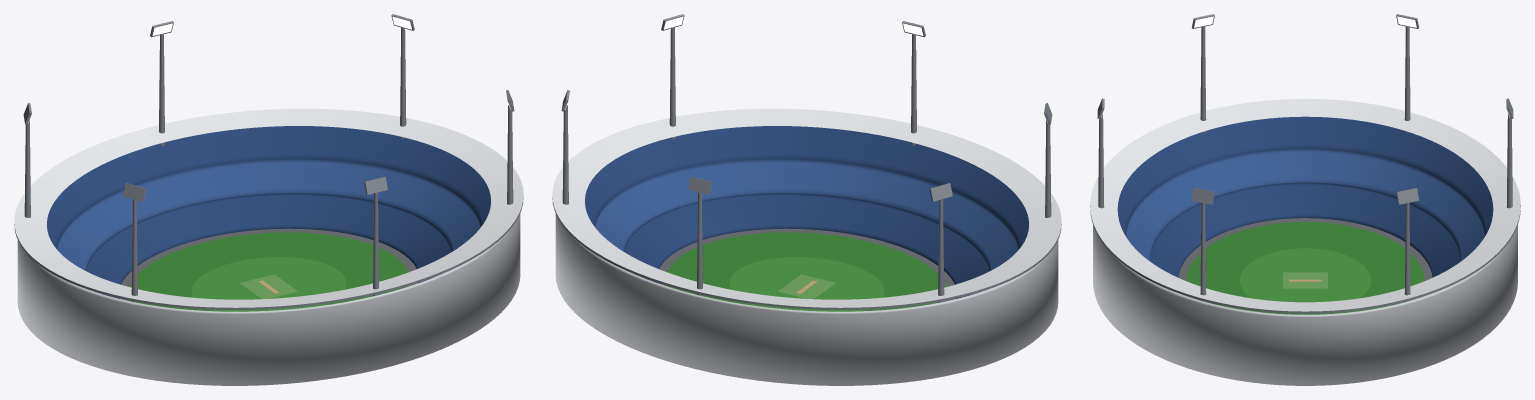
File: stadium-oval.glb
3 views of the same model, side by side, from view 1: azimuth 30°, elevation 25°; view 2: azimuth 150°, elevation 25°; view 3: azimuth 270°, elevation 25° (orthographic). The views are drawn at different scales.
Visible parts, largest first — view 1: OuterFacade, RoofRing, MiddleTier, UpperTier, LowerTier, Field, InnerField, Apron, RoofFascia, LightTower3, LightTower2, LightTower5 (+4 smaller); view 2: OuterFacade, RoofRing, MiddleTier, UpperTier, LowerTier, Field, InnerField, Apron, RoofFascia, LightTower4, LightTower5, LightTower2 (+4 smaller); view 3: OuterFacade, RoofRing, MiddleTier, UpperTier, LowerTier, Field, InnerField, Apron, RoofFascia, LightTower1, LightTower6, LightTower3 (+4 smaller).
Part boxes in pixels (x1,y1,x2,y2): OuterFacade: [17, 213, 520, 385]; RoofRing: [14, 108, 523, 307]; MiddleTier: [57, 158, 480, 270]; UpperTier: [47, 126, 490, 248]; LowerTier: [86, 193, 451, 298]; Field: [129, 232, 408, 311]; InnerField: [191, 257, 346, 311]; Apron: [120, 228, 417, 300]; RoofFascia: [14, 197, 523, 309]; LightTower3: [123, 183, 146, 302]; LightTower2: [364, 176, 387, 296]; LightTower5: [150, 21, 173, 145]; OuterFacade: [555, 213, 1058, 385]; RoofRing: [552, 108, 1061, 307]; MiddleTier: [595, 158, 1018, 270]; UpperTier: [585, 126, 1028, 248]; LowerTier: [624, 193, 989, 298]; Field: [667, 232, 946, 311]; InnerField: [729, 257, 884, 311]; Apron: [658, 228, 955, 300]; RoofFascia: [552, 197, 1061, 309]; LightTower4: [929, 183, 952, 302]; LightTower5: [688, 176, 711, 296]; LightTower2: [902, 21, 925, 145]; OuterFacade: [1093, 225, 1517, 385]; RoofRing: [1090, 98, 1520, 311]; MiddleTier: [1126, 148, 1484, 261]; UpperTier: [1117, 116, 1493, 235]; LowerTier: [1150, 182, 1460, 277]; Field: [1186, 222, 1424, 314]; InnerField: [1240, 248, 1370, 302]; Apron: [1178, 218, 1432, 297]; RoofFascia: [1090, 205, 1520, 313]; LightTower1: [1192, 188, 1214, 301]; LightTower6: [1396, 188, 1418, 301]; LightTower3: [1191, 14, 1214, 132].
Size of what is drawn, in the model's own units: 313 by 122 by 268.
